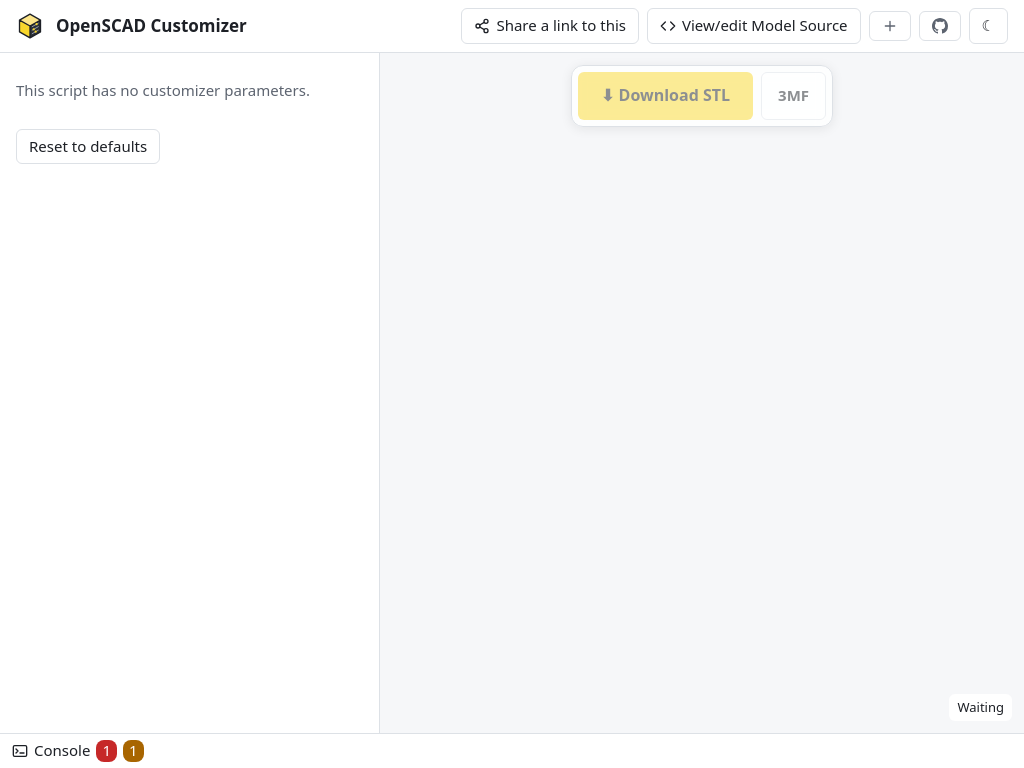
Scenario: App › model view › shows console badges, lists lines and jumps to a line
Expected: the text with class "error" reads "1", [102,740,111,760]
Expected: the text with class "warning" reads "1", [129,740,138,760]
Click the button with test id "console-toggle" at {"x": 62, "y": 750}, box [0,734,1023,767]
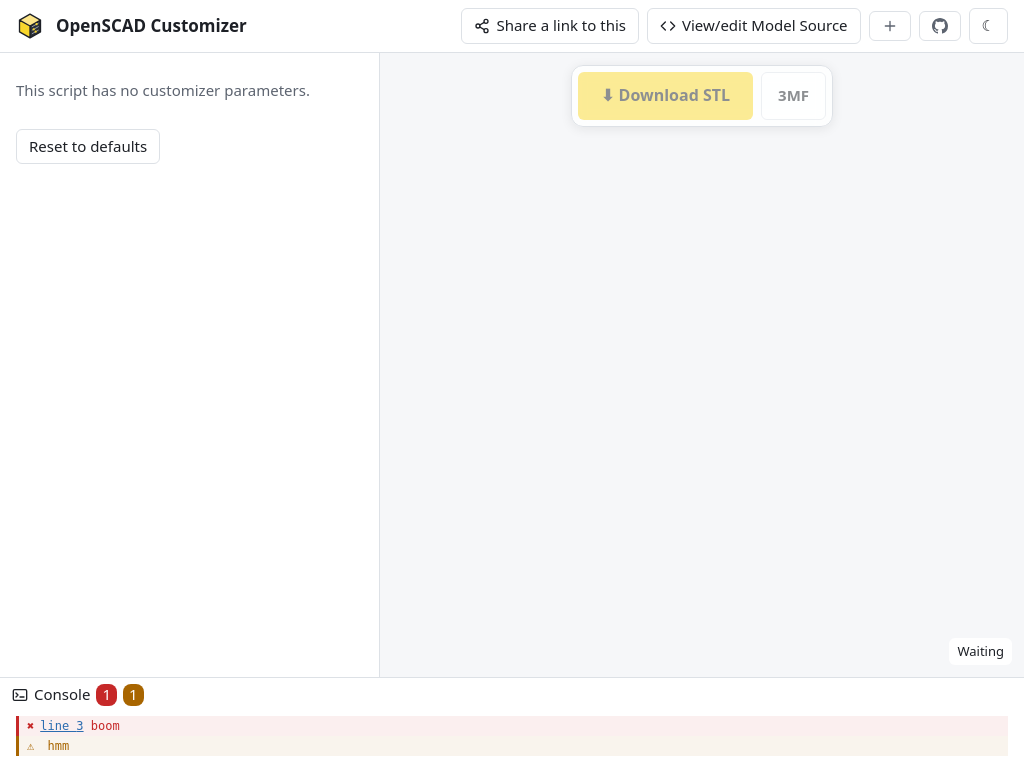
Expected: the list item "✖ line 3 boom" is shown, [16,716,1008,736]
Expected: the list item "⚠ hmm" is shown, [16,736,1008,756]
Click the button "line 3" at {"x": 62, "y": 726}, box [40,717,84,735]
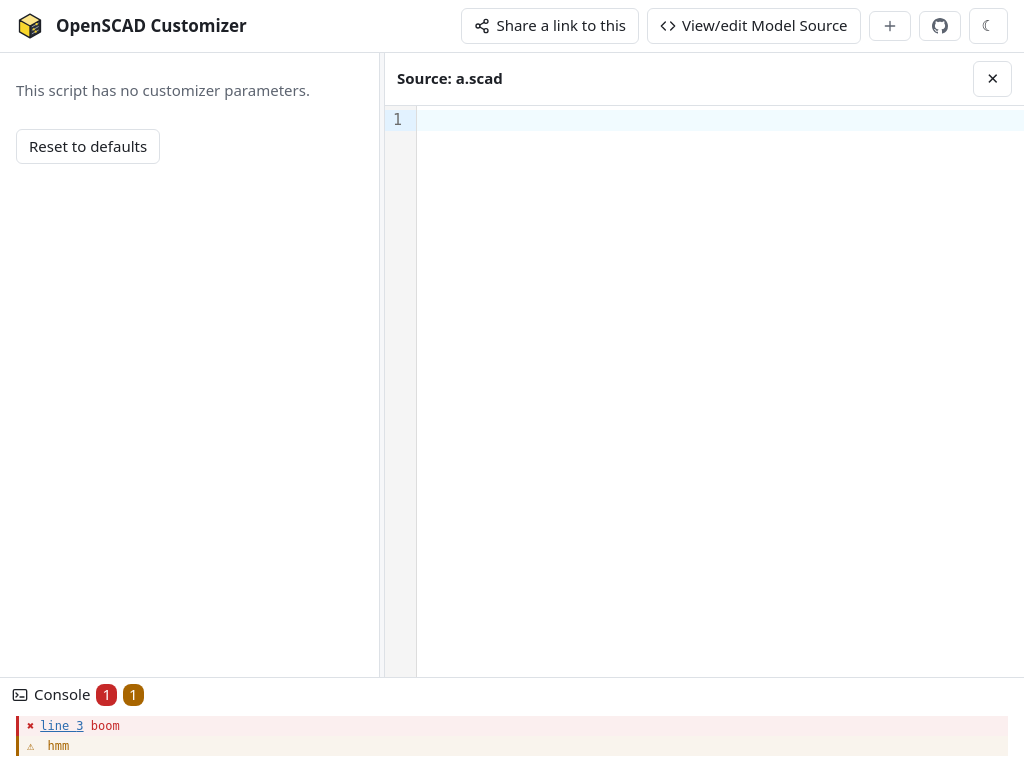
Expected: the dialog "Source" is shown, [384,53,1023,677]
